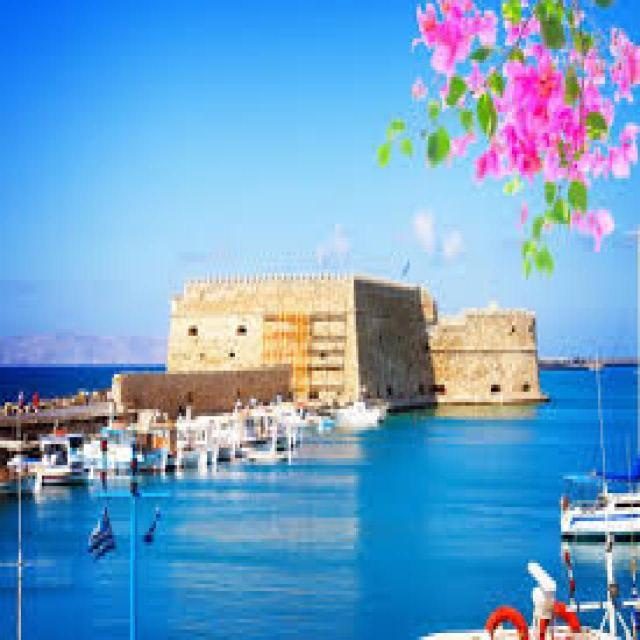Kules: (163, 258, 553, 424)
